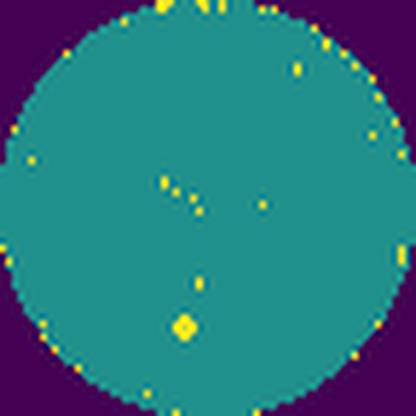Loc: (169, 314, 202, 344)
